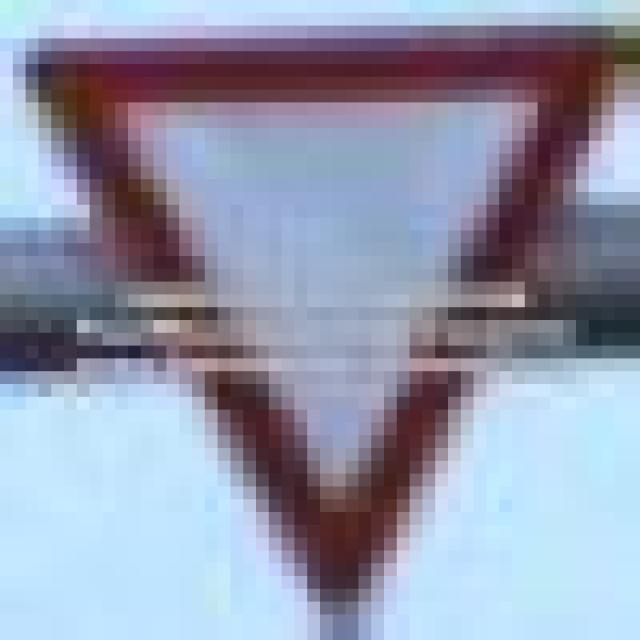gap_in_median: (0, 26, 627, 602)
